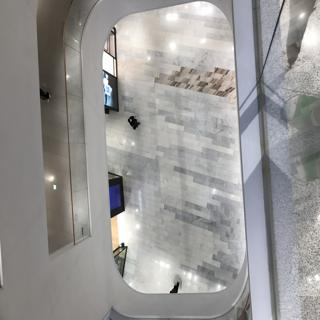person: (126, 109, 142, 131)
